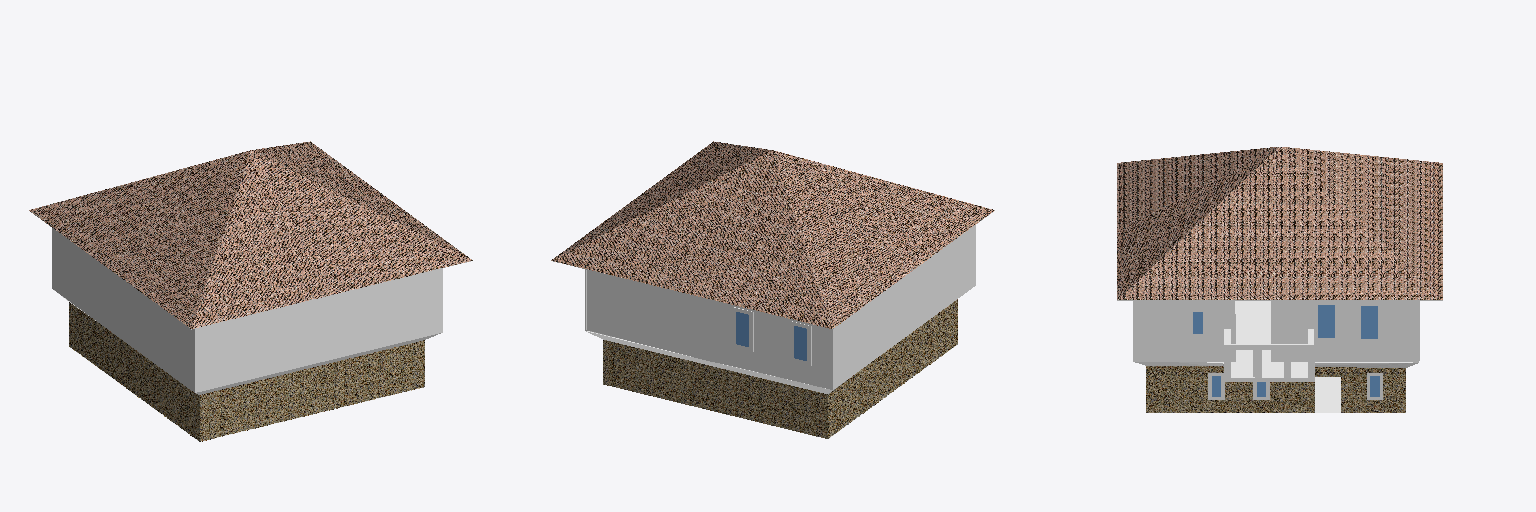
The picture shows the model from 3 angles: view 1: azimuth 30°, elevation 25°; view 2: azimuth 150°, elevation 25°; view 3: azimuth 270°, elevation 25°; orthographic projection.
Visible parts, largest first — view 1: HouseVer1; view 2: HouseVer1; view 3: HouseVer1.
Part boxes in pixels (bbox=[...]): HouseVer1: bbox=[29, 141, 472, 441]; HouseVer1: bbox=[551, 141, 994, 438]; HouseVer1: bbox=[1117, 147, 1442, 412].
Bounding box in the file's own units: 25.9 × 18.15 × 25.
Materials: 8 (2 with a texture image).